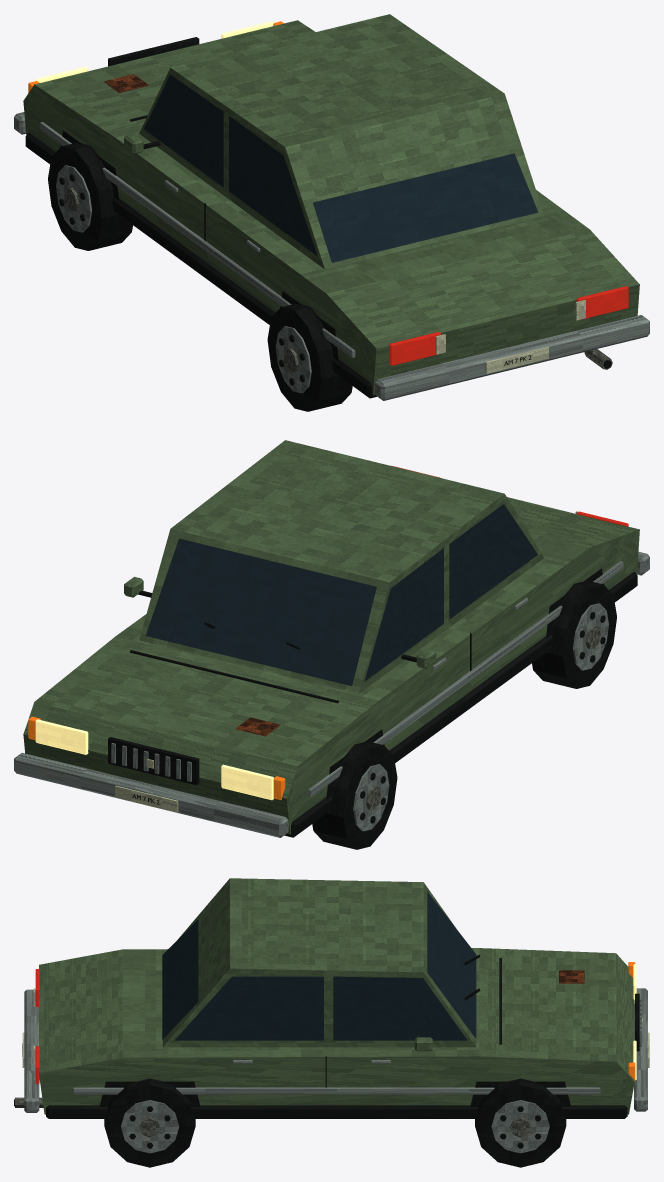
File: sedan.glb
3 renders of one model, top to bottom at view 1: azimuth 30°, elevation 25°; view 2: azimuth 150°, elevation 25°; view 3: azimuth 270°, elevation 25°, orthographic. The views are drawn at different scales.
Parts seen in each view (by area): view 1: Vehicle_Body, Glass_Mesh, Wheel_RL_Mesh, Wheel_FL_Mesh, Tail_Lights_Mesh, License_Mesh, Grille_Mesh, Headlights_Mesh; view 2: Vehicle_Body, Glass_Mesh, Wheel_FL_Mesh, Wheel_RL_Mesh, Headlights_Mesh, Grille_Mesh, License_Mesh; view 3: Vehicle_Body, Glass_Mesh, Wheel_FR_Mesh, Wheel_RR_Mesh, Tail_Lights_Mesh.
Part boxes in pixels (<box>): Vehicle_Body: <box>14,14,649,400</box>; Glass_Mesh: <box>144,74,538,262</box>; Wheel_RL_Mesh: <box>267,303,352,411</box>; Wheel_FL_Mesh: <box>48,143,132,250</box>; Tail_Lights_Mesh: <box>389,286,628,365</box>; License_Mesh: <box>485,347,548,373</box>; Grille_Mesh: <box>108,37,199,66</box>; Headlights_Mesh: <box>35,21,273,82</box>; Vehicle_Body: <box>14,440,649,837</box>; Glass_Mesh: <box>145,504,537,686</box>; Wheel_FL_Mesh: <box>312,741,397,849</box>; Wheel_RL_Mesh: <box>532,581,616,688</box>; Headlights_Mesh: <box>35,719,273,800</box>; Grille_Mesh: <box>108,737,199,785</box>; License_Mesh: <box>115,785,178,812</box>; Vehicle_Body: <box>24,878,647,1118</box>; Glass_Mesh: <box>162,892,476,1040</box>; Wheel_FR_Mesh: <box>475,1078,566,1167</box>; Wheel_RR_Mesh: <box>104,1078,195,1167</box>; Tail_Lights_Mesh: <box>33,969,39,1084</box>.
Size of the model in its own units: 2.08 by 1.42 by 4.46.
10 materials, 10 textured.
